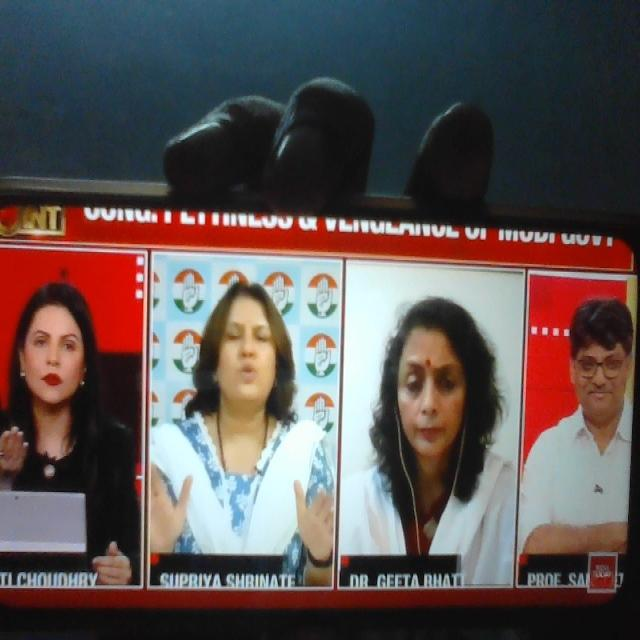fake: (373, 284, 487, 499)
